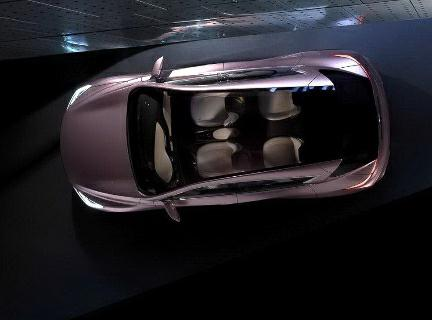英菲尼迪-Q30: (62, 45, 393, 228)
